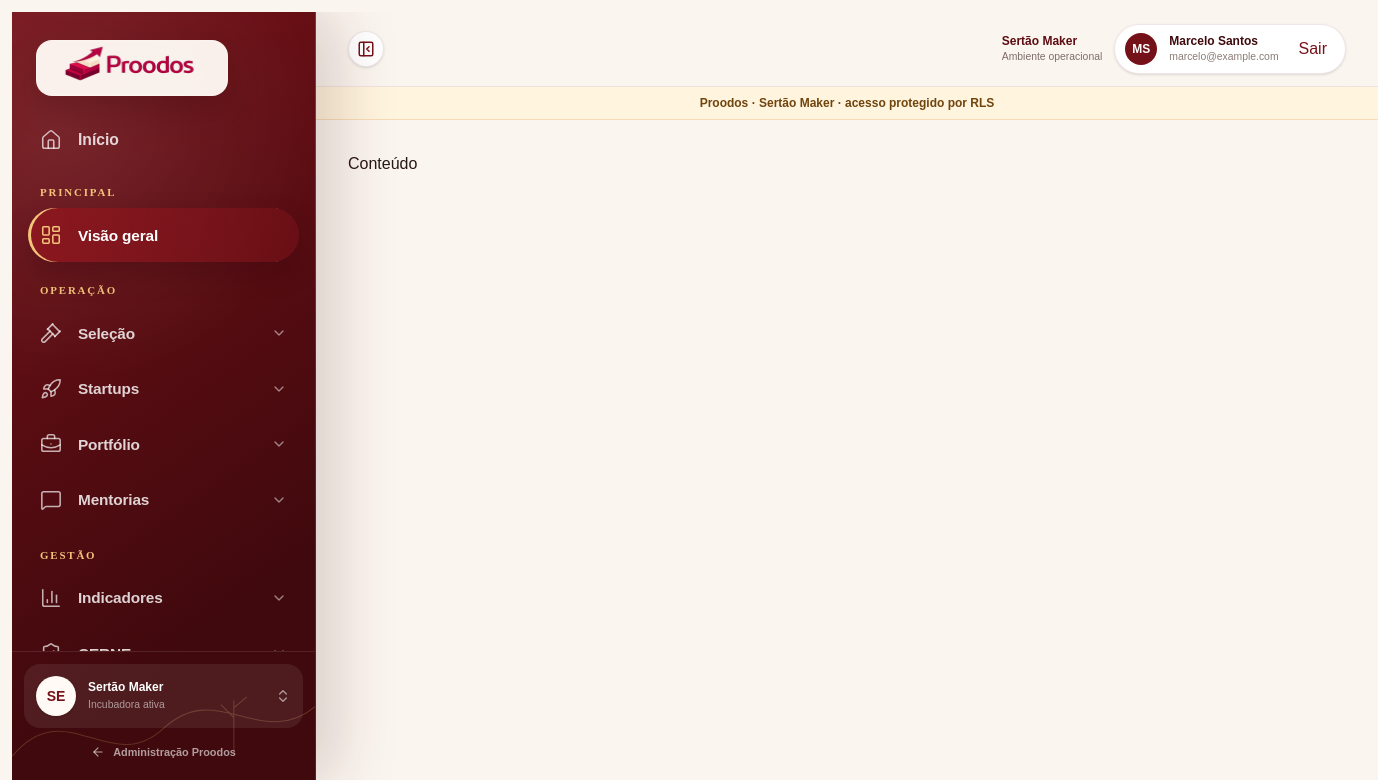
Test: AppShell navigation › abre os submenus sem impedir o acesso à visão geral do módulo
The image size is (1378, 780).
Step 1. Click the button named "Abrir submenu de Seleção" → (279, 333), box [259, 306, 299, 360]
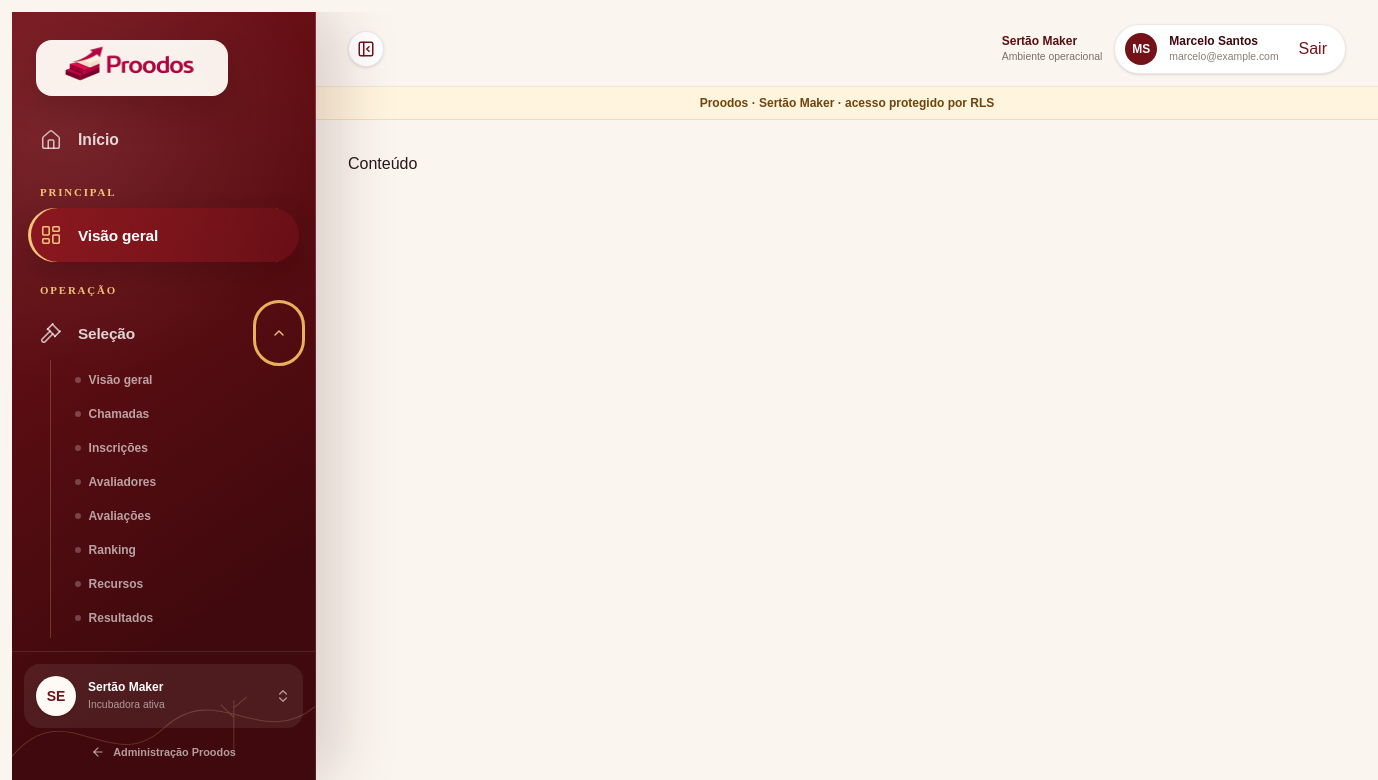
Check: the button named "Abrir submenu de Seleção" is expanded, box [259, 306, 299, 360]
